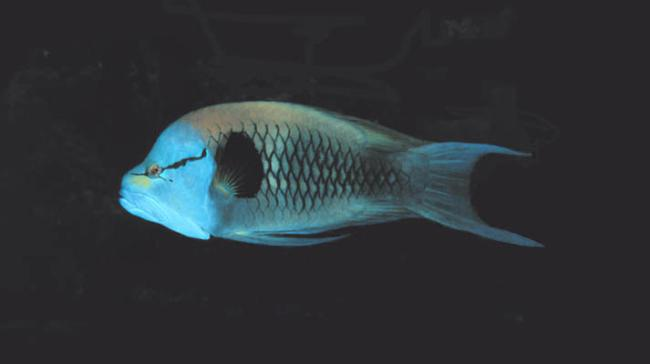fish: (119, 100, 544, 248)
